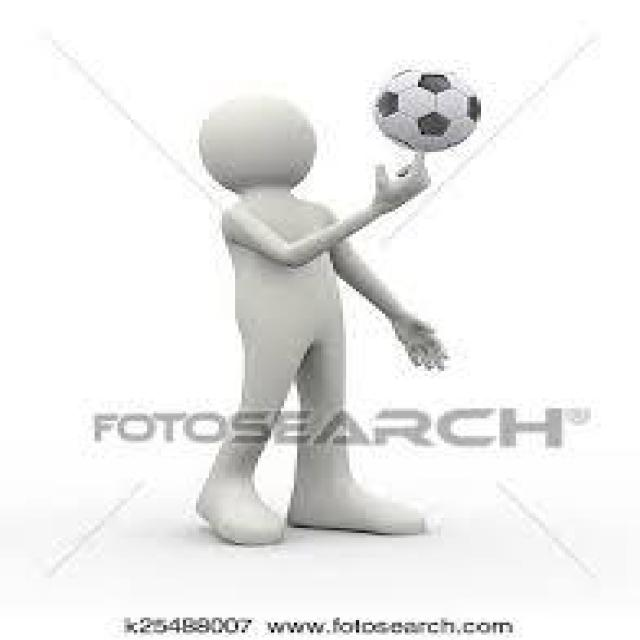ball: (376, 60, 480, 149)
